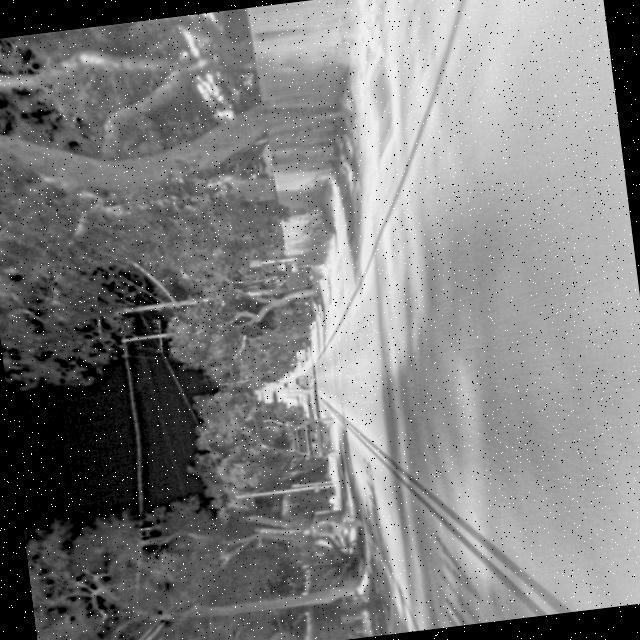Pedestrian: (300, 512, 366, 542)
Vehicle: (290, 415, 338, 461)
